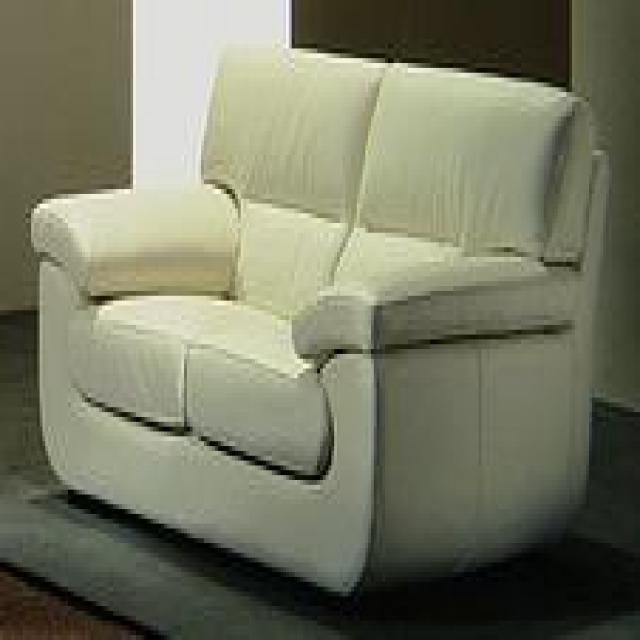sofa: (31, 39, 610, 615)
